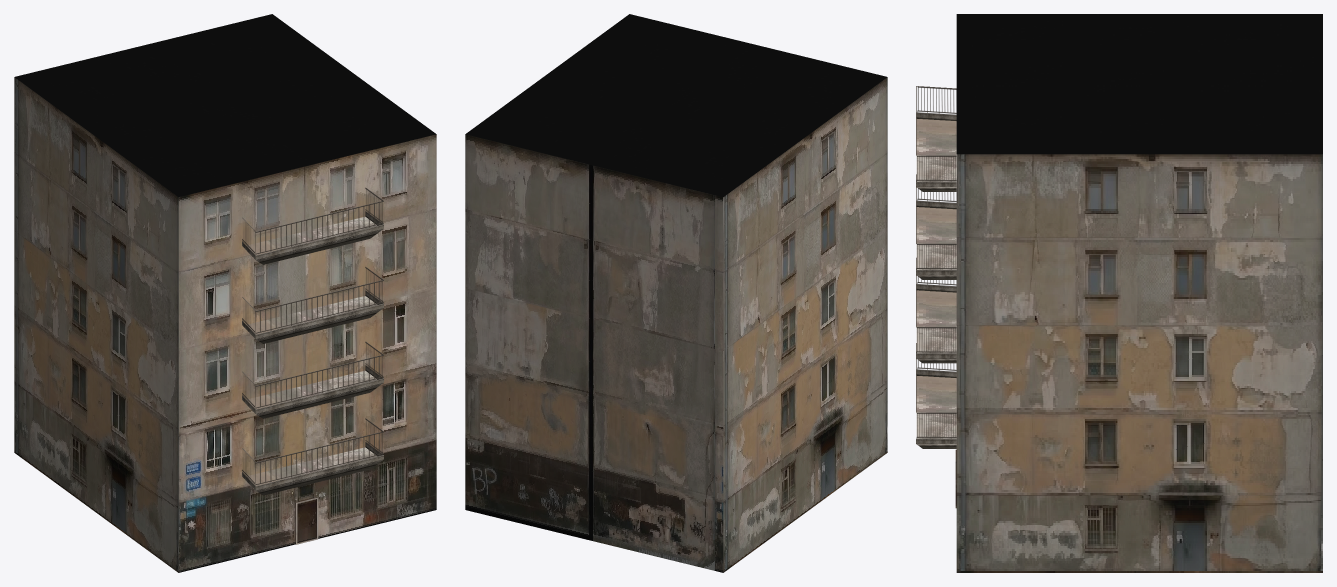
File: appartment.glb
3 renders of one model, left to right at view 1: azimuth 30°, elevation 25°; view 2: azimuth 150°, elevation 25°; view 3: azimuth 270°, elevation 25°, orthographic. The views are drawn at different scales.
Parts seen in each view (by area): view 1: AppartmentKasugay; view 2: AppartmentKasugay; view 3: AppartmentKasugay.
Part boxes in pixels (x1,y1,x2,y2): AppartmentKasugay: (14,14,436,572); AppartmentKasugay: (465,14,887,572); AppartmentKasugay: (916,14,1322,572).
Bounding box in the file's own units: 16.72 × 23.26 × 20.47.
2 materials, 2 textured.
